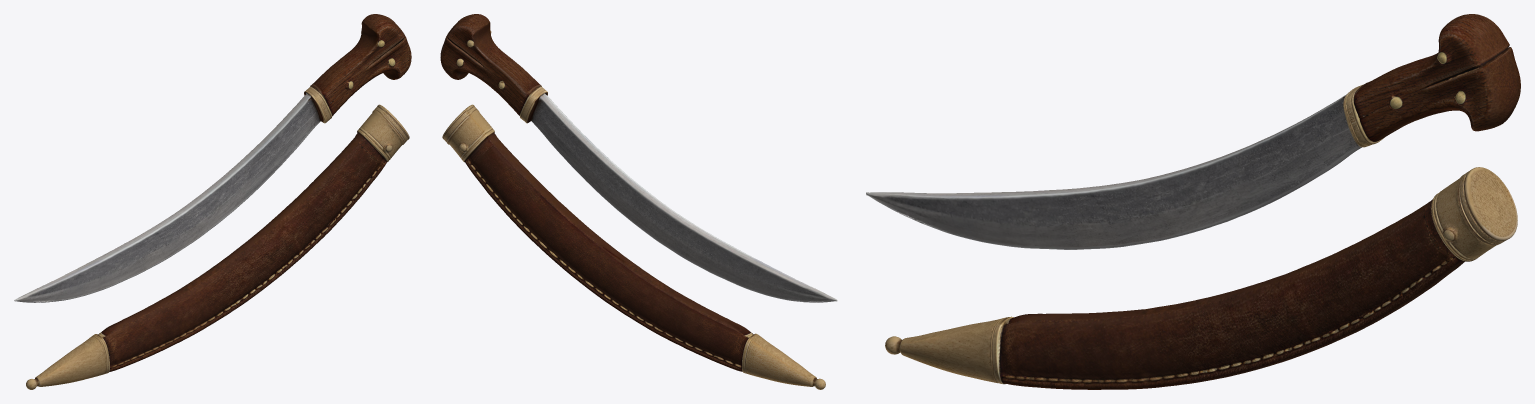
The model's file is Ahşap kabzalı sade yatağan.glb.
3 renders of one model, left to right at view 1: azimuth 30°, elevation 25°; view 2: azimuth 150°, elevation 25°; view 3: azimuth 330°, elevation 25°, orthographic. The views are drawn at different scales.
Visible parts, largest first — view 1: tripo_node_00b76e9d-db99-4a9b-a7d4-3b8a38dcd8e5; view 2: tripo_node_00b76e9d-db99-4a9b-a7d4-3b8a38dcd8e5; view 3: tripo_node_00b76e9d-db99-4a9b-a7d4-3b8a38dcd8e5.
Boxes of the visible parts, x1,y1,x2,y2 form: tripo_node_00b76e9d-db99-4a9b-a7d4-3b8a38dcd8e5: (14,14,411,389); tripo_node_00b76e9d-db99-4a9b-a7d4-3b8a38dcd8e5: (440,14,837,389); tripo_node_00b76e9d-db99-4a9b-a7d4-3b8a38dcd8e5: (866,14,1520,389).
Bounding box in the file's own units: 0.9796 × 0.6883 × 0.0991.
1 material, 1 textured.
